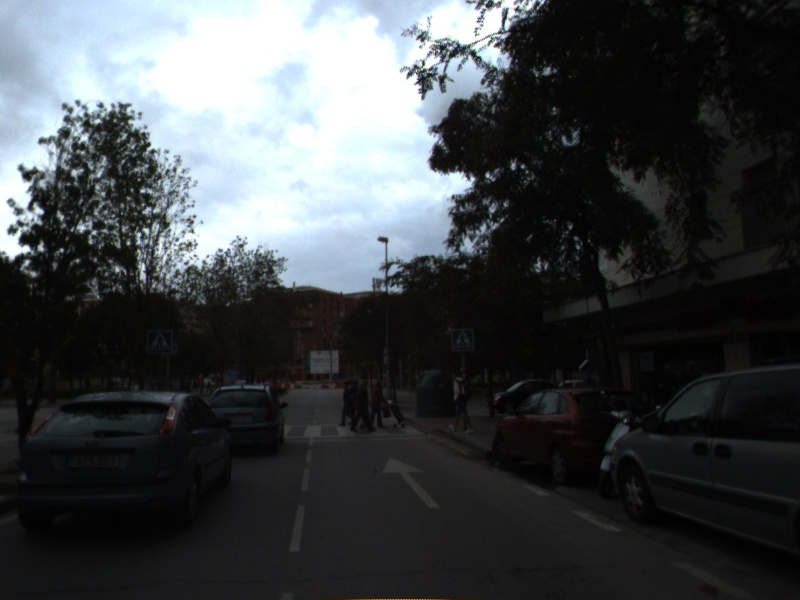STRAIGHT: (380, 455, 444, 511)
